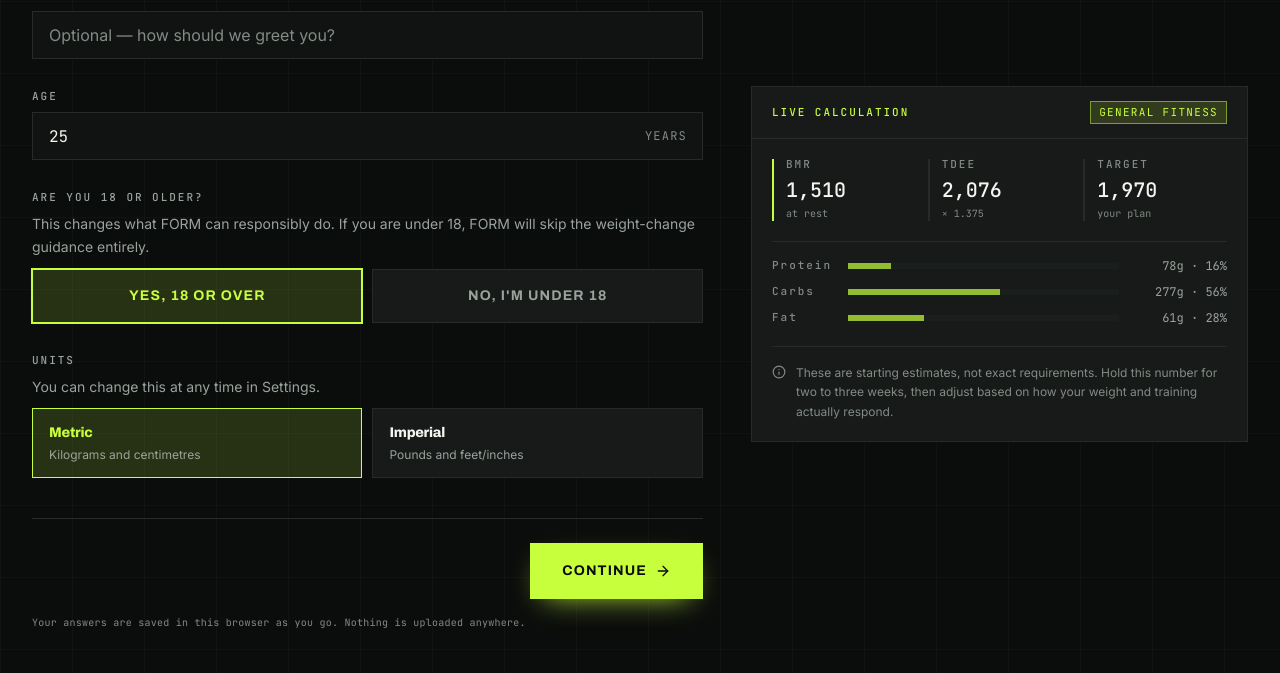
Scenario: the body step › still rejects a value that is out of range
(page scrolled)
Click the button "Continue" at (617, 571), box [530, 543, 703, 599]
(page scrolled)
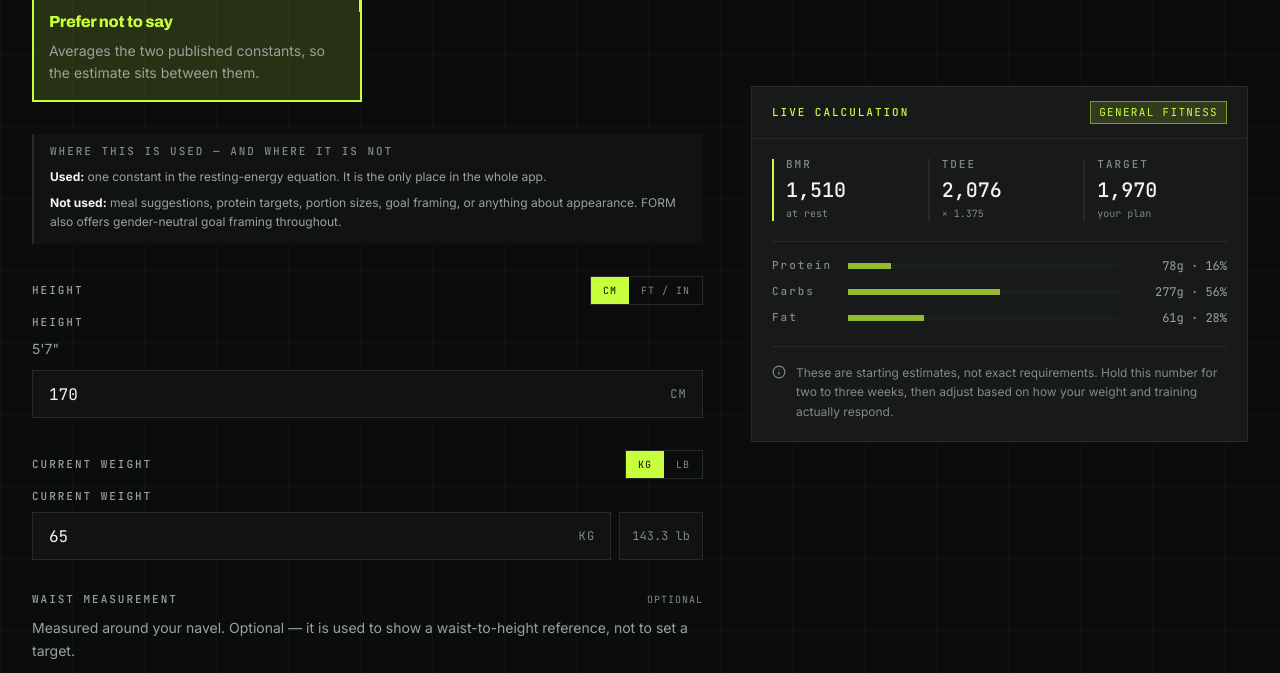
Result: the number field labelled "Height" is shown
Replace the text in the number field labelled "Height" with "95" at (368, 394), box [32, 370, 703, 418]
(page scrolled)
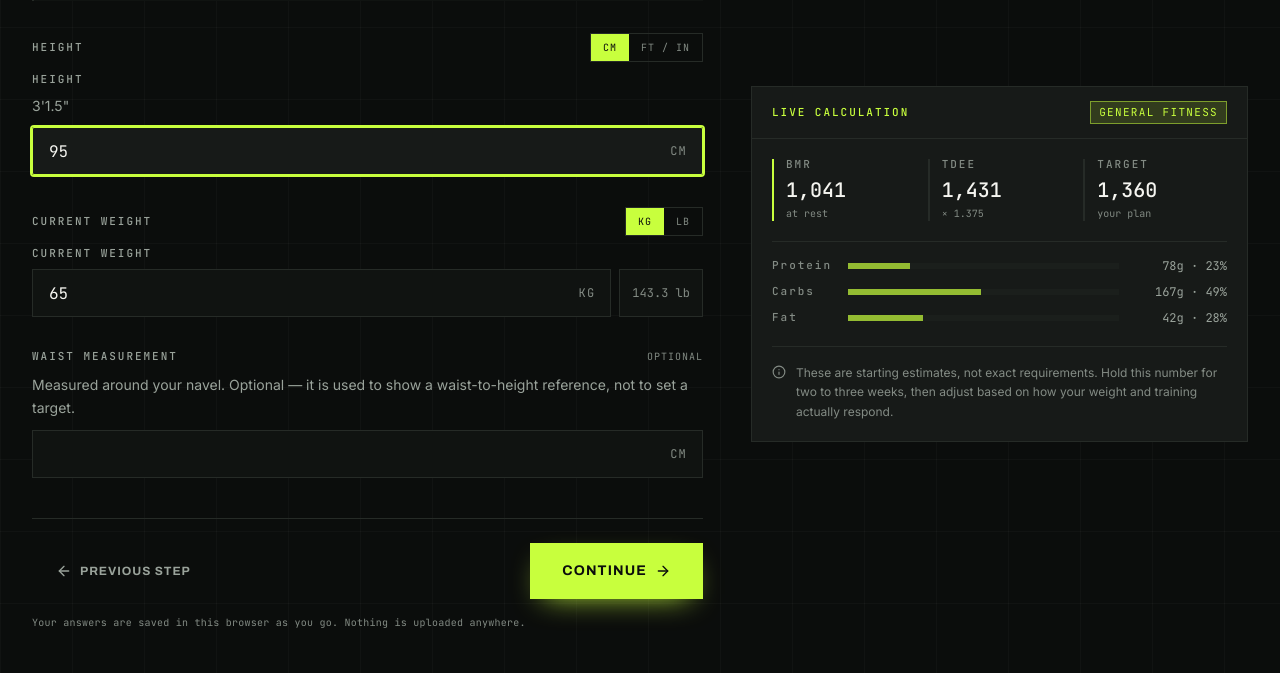
Click the button "Continue" at (617, 571), box [530, 543, 703, 599]
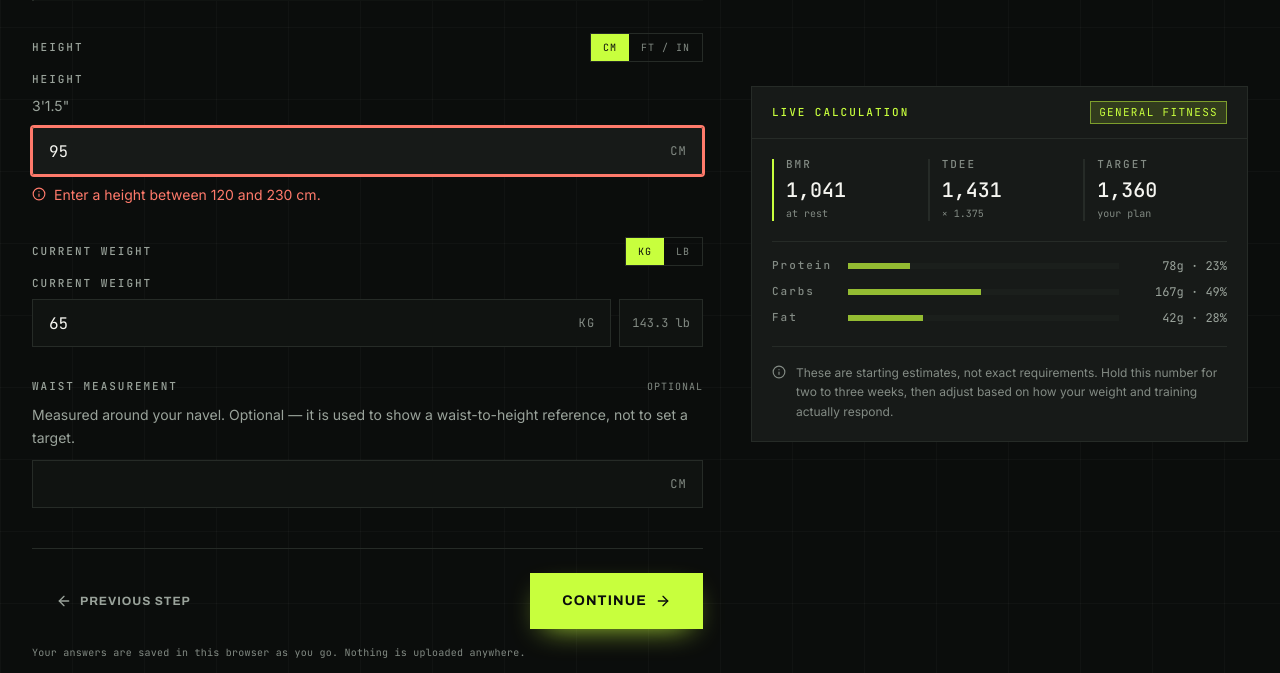
Result: the text "Enter a height between 120 and 230 cm." is shown at [32, 186, 321, 203]
